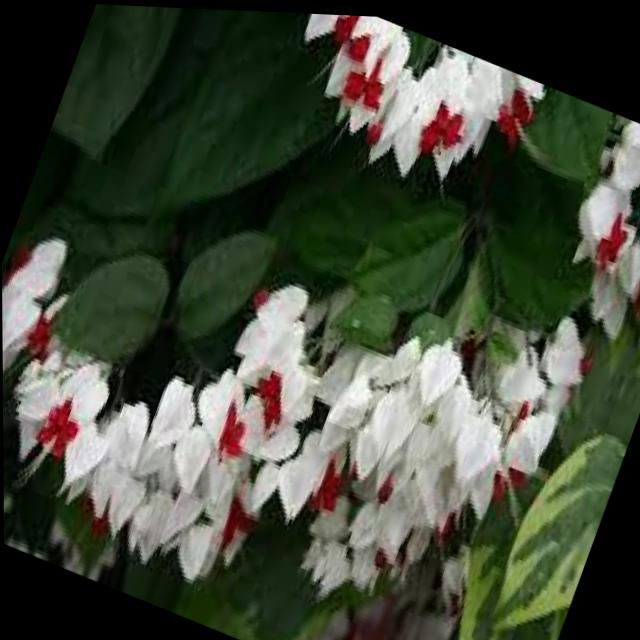Flower: (285, 297, 548, 566), (294, 10, 513, 209), (174, 275, 339, 517), (2, 319, 145, 490), (546, 147, 640, 287)
